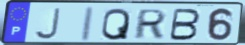6: (207, 7, 235, 43)
B: (167, 7, 203, 42)
I: (78, 5, 96, 42)
J: (32, 8, 62, 41)
Q: (100, 7, 132, 42)
R: (132, 8, 169, 41)
